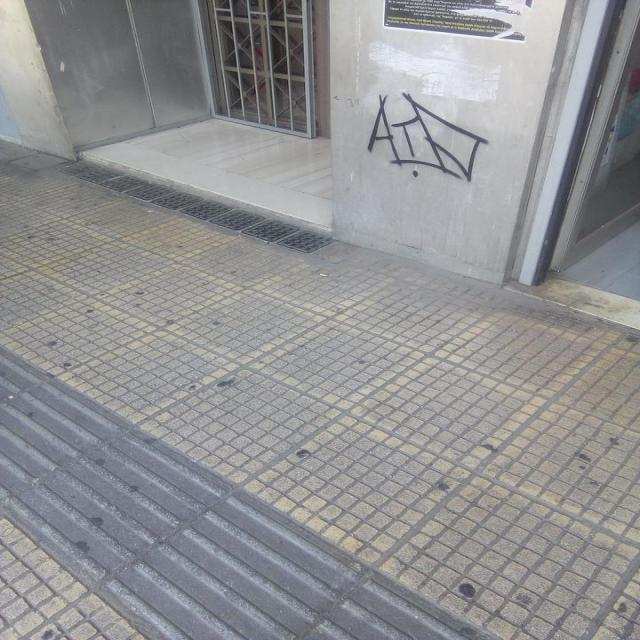nonspitting: (367, 92, 489, 182)
